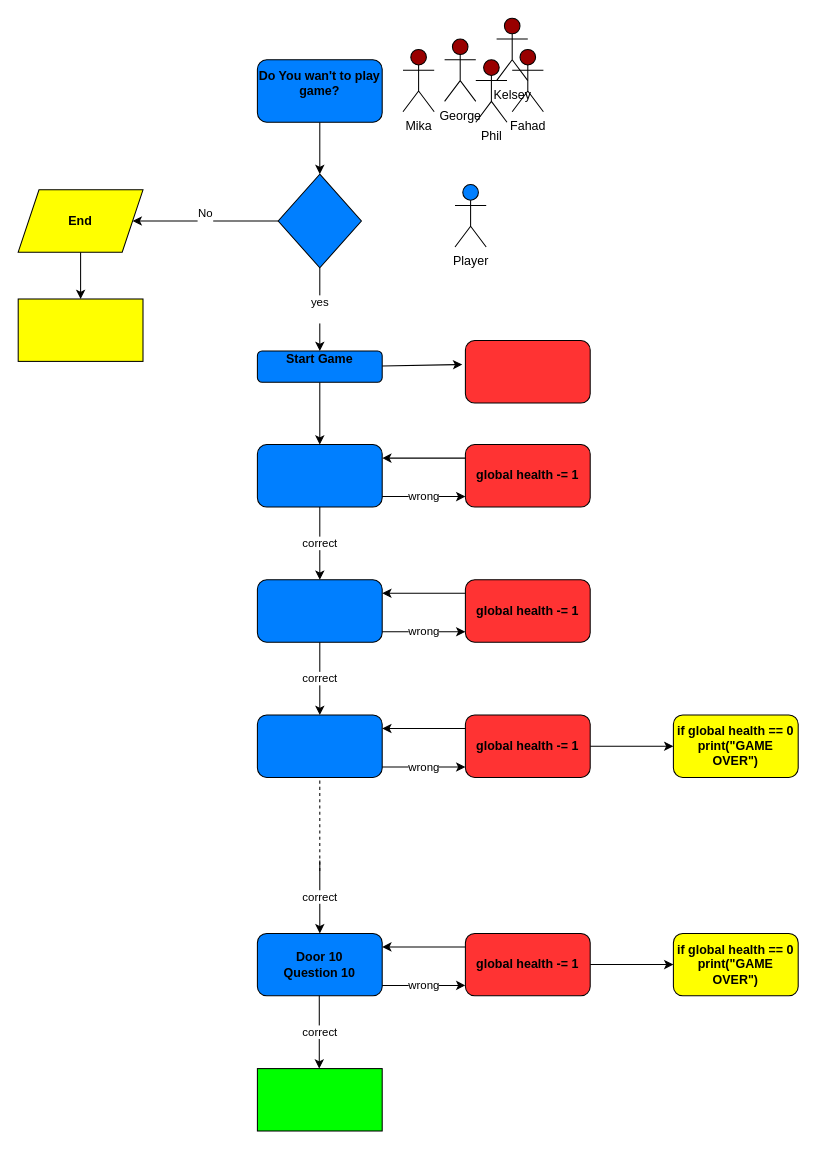
This 816x1149 diagram has some shape labels left out. Here are the shapes that lost their labels. From the top down, the box of each, then its label:
(277, 173, 361, 268): yes / no
(17, 298, 143, 361): Finish
(464, 340, 590, 403): global health/distance from ghosts = 10
(256, 444, 382, 507): Door 1 Question 1
(256, 579, 382, 642): Door 2 Question 2
(256, 714, 382, 777): Door ... Question ...
(256, 1068, 382, 1131): FINISH - YOU HAVE WON THE GAME
